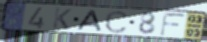4: (26, 6, 47, 30)
8: (138, 11, 158, 35)
A: (76, 9, 104, 33)
C: (103, 10, 130, 35)
F: (159, 11, 187, 37)
K: (51, 7, 74, 31)
